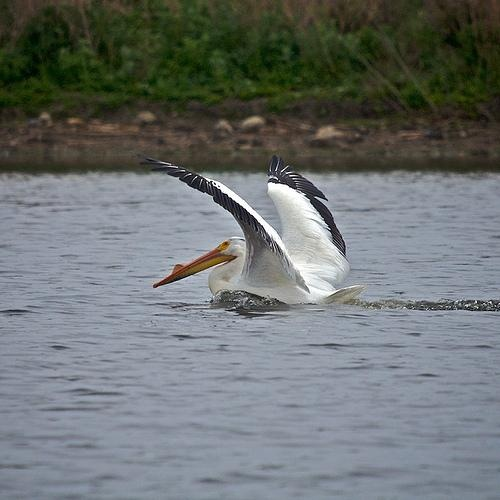bird: (135, 150, 364, 311)
